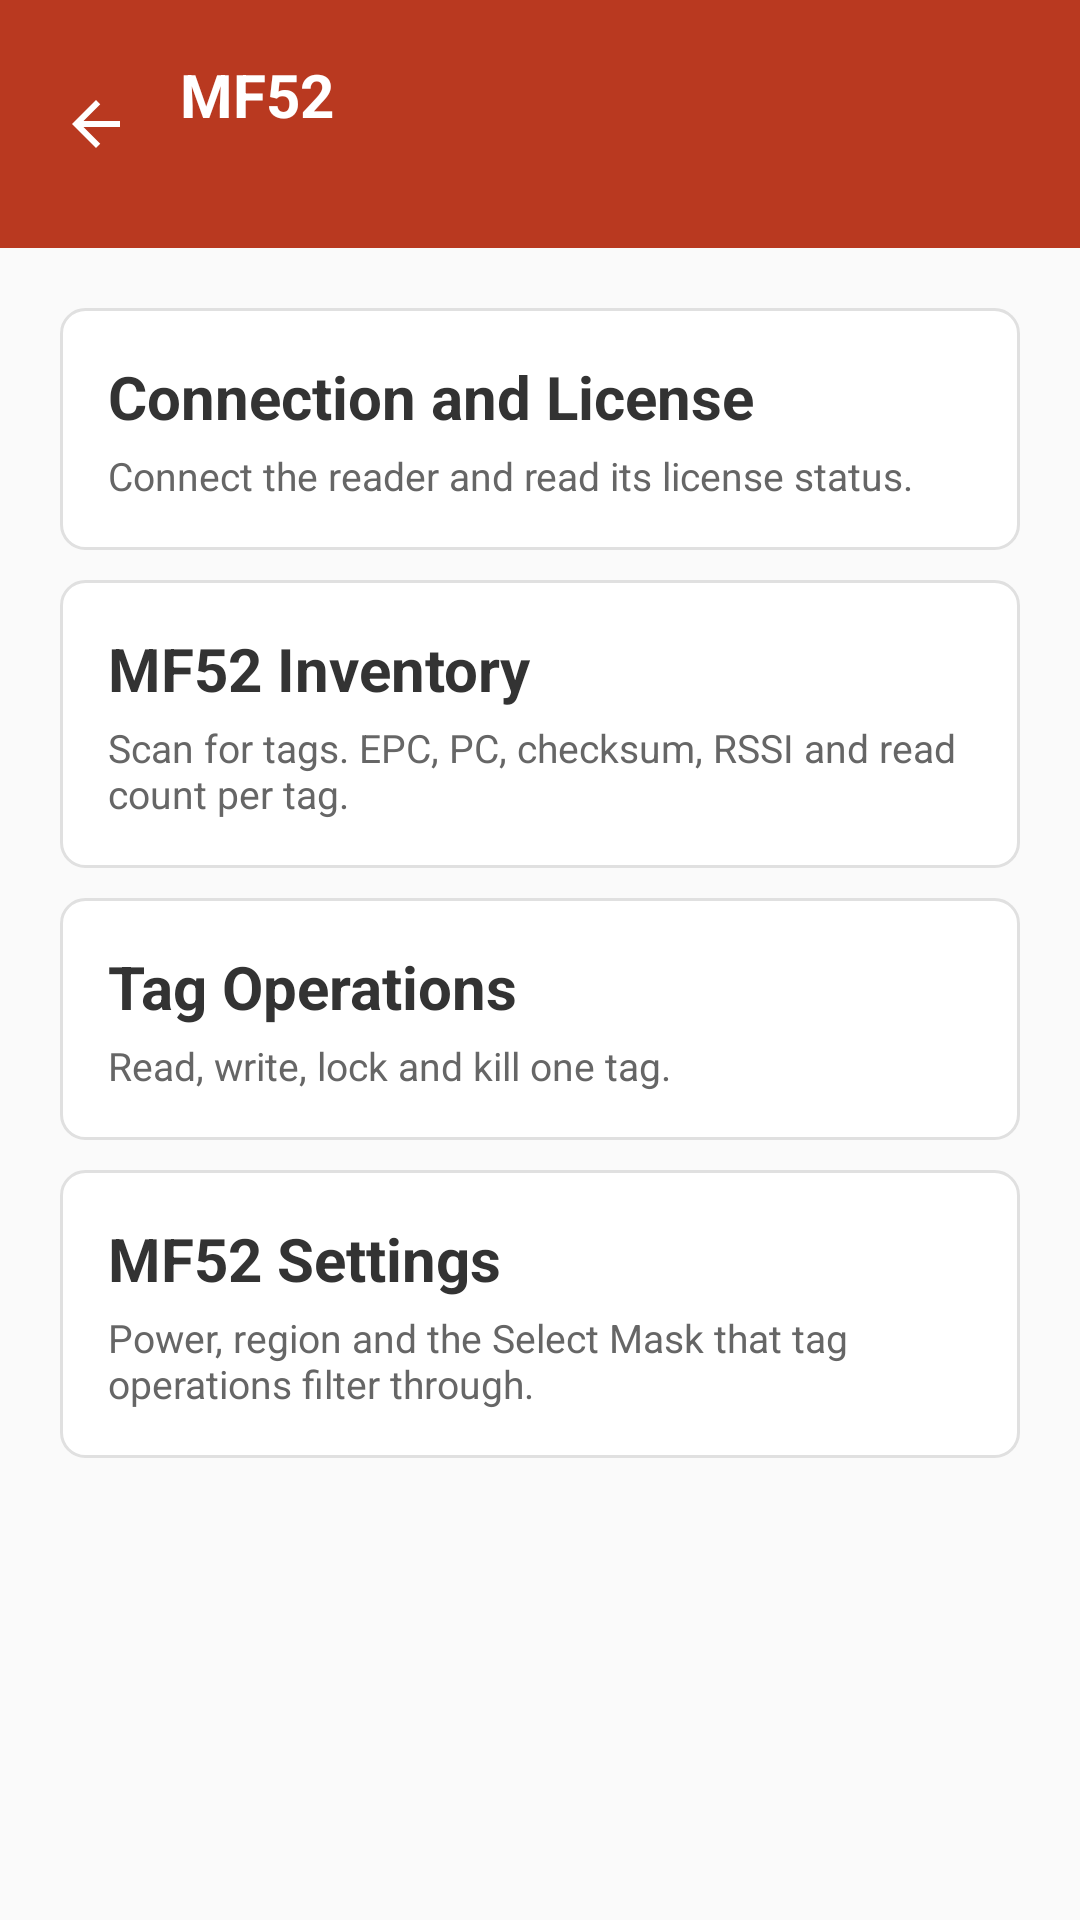

Locate icon controls on the screen. Image size 1080 × 1920, boxes as (x1, y1, x2, y2).
Back: (72, 100, 120, 148)
